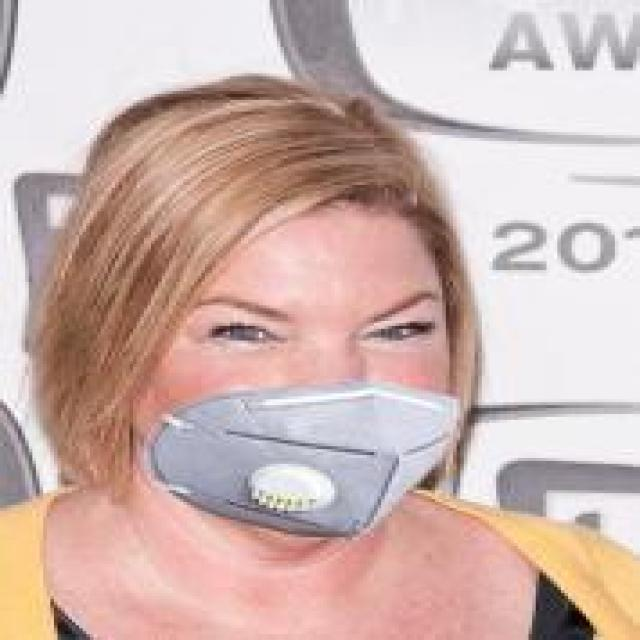mask: (39, 38, 474, 534)
